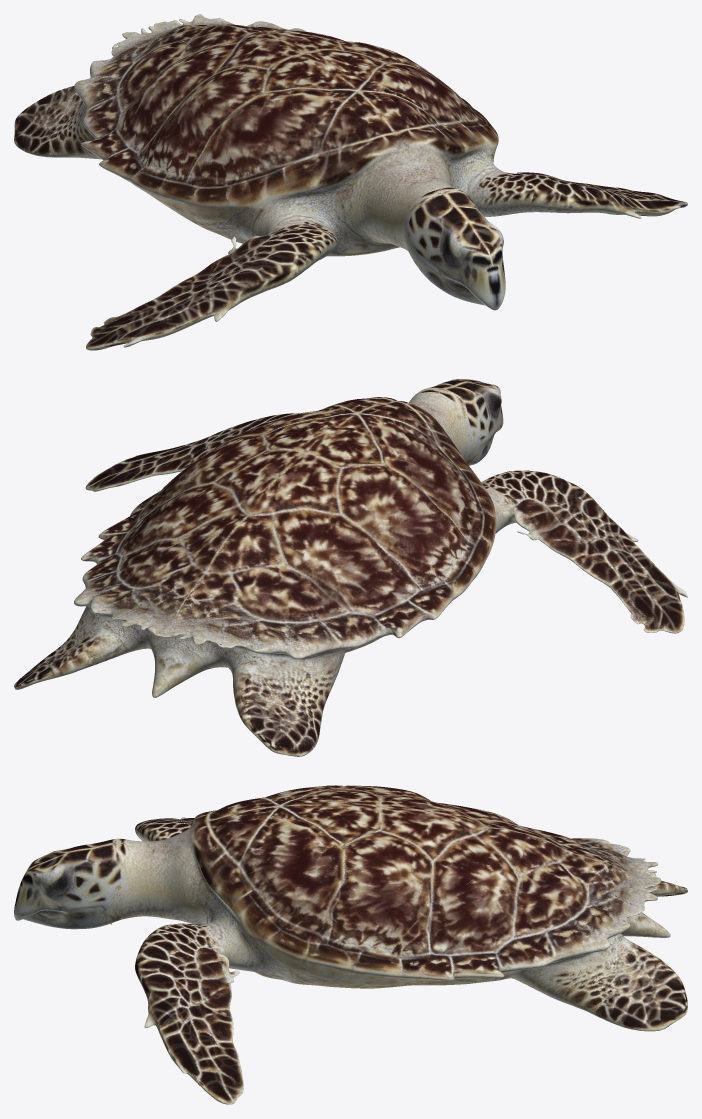
File: tartaruga_de_pente.glb
The picture shows the model from 3 angles, top to bottom: view 1: azimuth 30°, elevation 25°; view 2: azimuth 150°, elevation 25°; view 3: azimuth 270°, elevation 25°; orthographic projection. The views are drawn at different scales.
Size of the model in its own units: 1.86 by 0.5046 by 1.9.
Materials: 1 (1 with a texture image).
